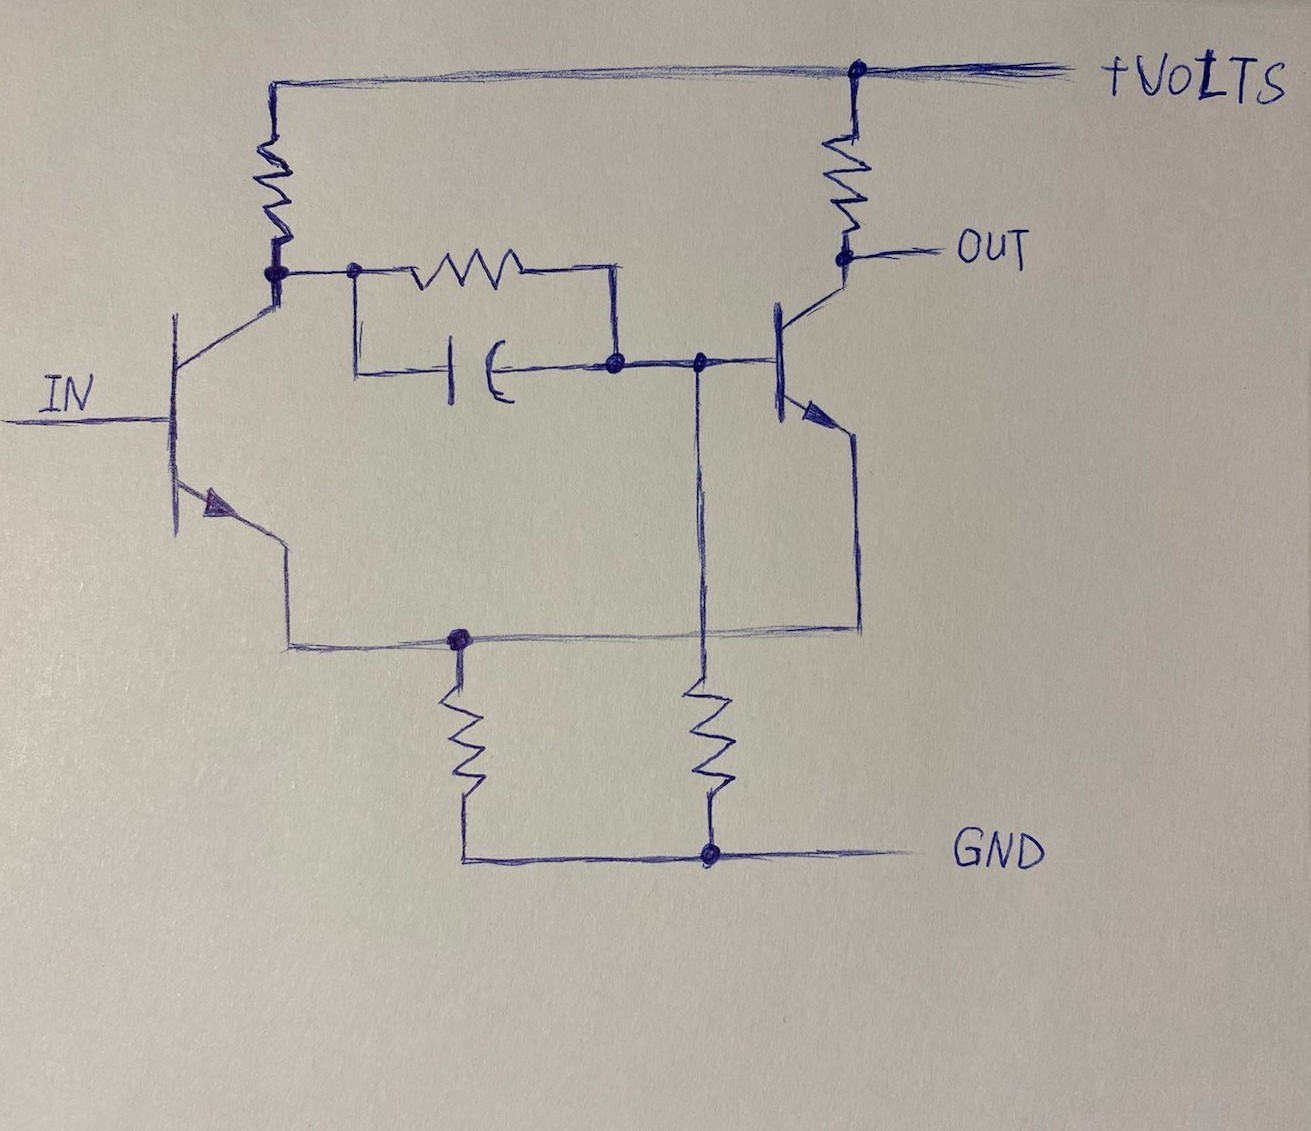capacitor.unpolarized: (421, 331, 538, 425)
crossover: (677, 607, 734, 652)
junction: (686, 833, 732, 881), (258, 61, 307, 106), (592, 339, 638, 386), (841, 605, 883, 654), (435, 620, 480, 664), (268, 628, 315, 671), (679, 342, 724, 386), (834, 47, 877, 90), (336, 253, 373, 293), (828, 242, 868, 280), (342, 353, 378, 394), (449, 842, 487, 879), (595, 250, 631, 286), (259, 259, 300, 287)
resistor: (683, 670, 741, 810), (434, 681, 492, 813), (404, 244, 534, 298), (247, 130, 304, 253), (820, 127, 874, 238)
terminal: (1009, 49, 1095, 96), (1, 411, 70, 443), (874, 837, 933, 869), (902, 231, 949, 263)
text: (1134, 48, 1290, 115), (951, 817, 1043, 876), (955, 225, 1035, 274), (37, 362, 99, 412), (1101, 48, 1129, 101)
transistor: (142, 299, 297, 553), (752, 285, 876, 439)
